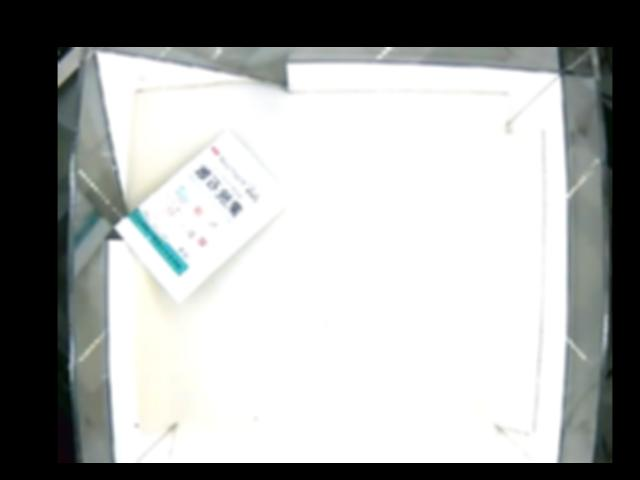Medicine: (112, 128, 292, 300)
